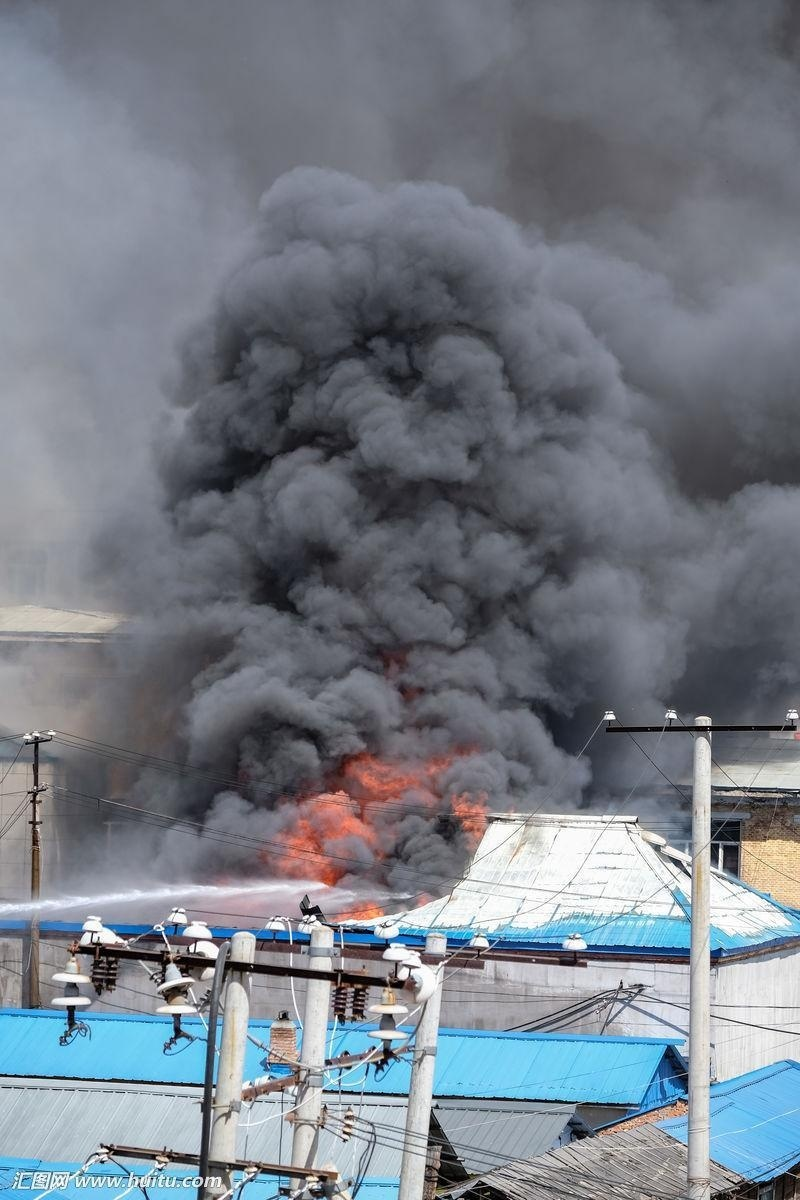fire: (272, 754, 483, 899)
